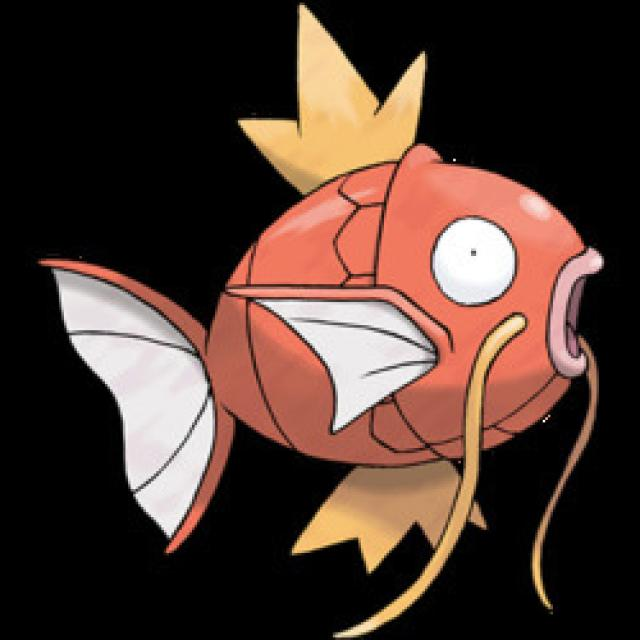Magikarp: (105, 114, 610, 518)
